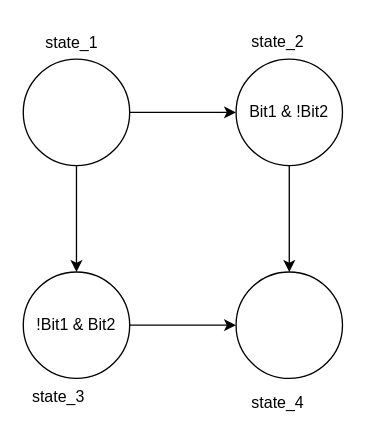
Image size: 366x447. Some labels were removed from this diagram. Each missing label, with the centre of its shape:
!Bit1 & !Bit2: the point at 76,112
Bit1 & Bit2: the point at 288,324
